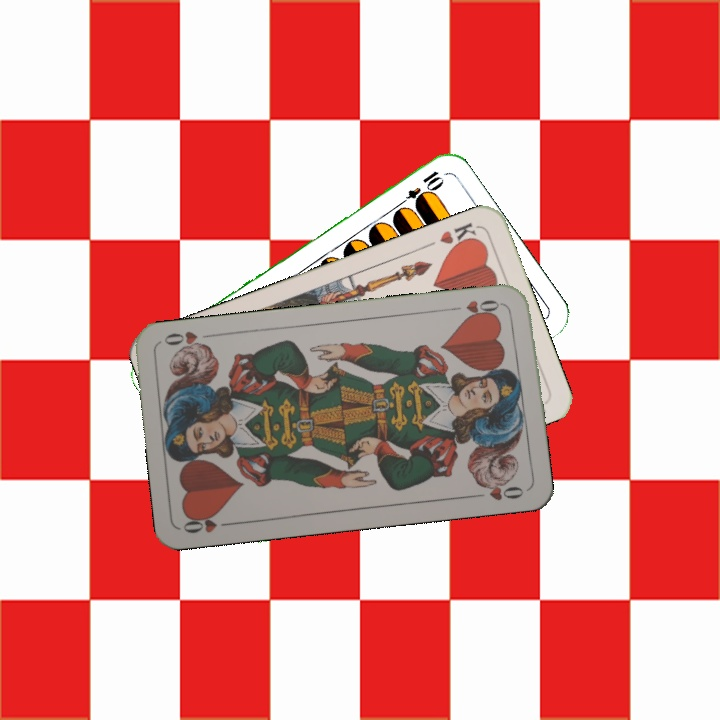E10: (393, 166, 445, 211)
HK: (436, 218, 481, 253)
HO: (179, 509, 239, 536), (447, 295, 506, 322)
